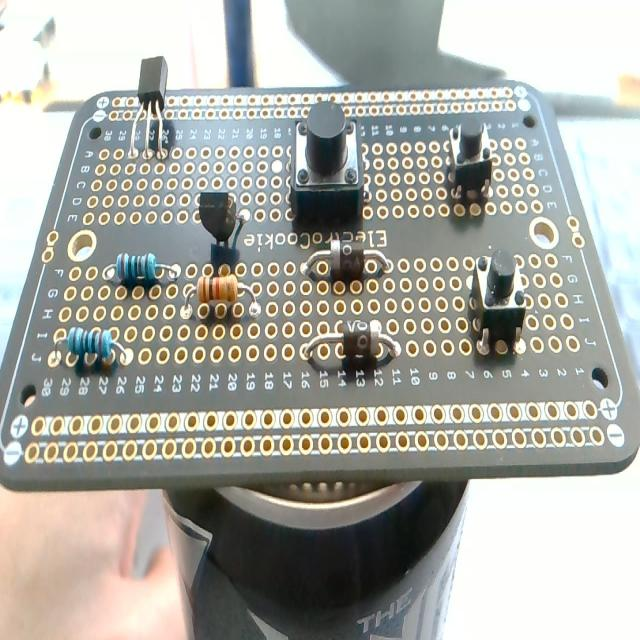diode: (303, 233, 391, 289), (303, 320, 402, 369)
resistor: (49, 321, 131, 384), (188, 267, 257, 320), (105, 252, 180, 286)
switch: (289, 103, 365, 223), (470, 249, 528, 354), (448, 118, 494, 205)
transistor: (130, 56, 171, 162), (198, 177, 255, 247)
